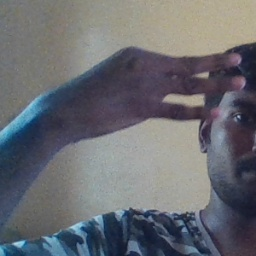K: (75, 44, 245, 128)
